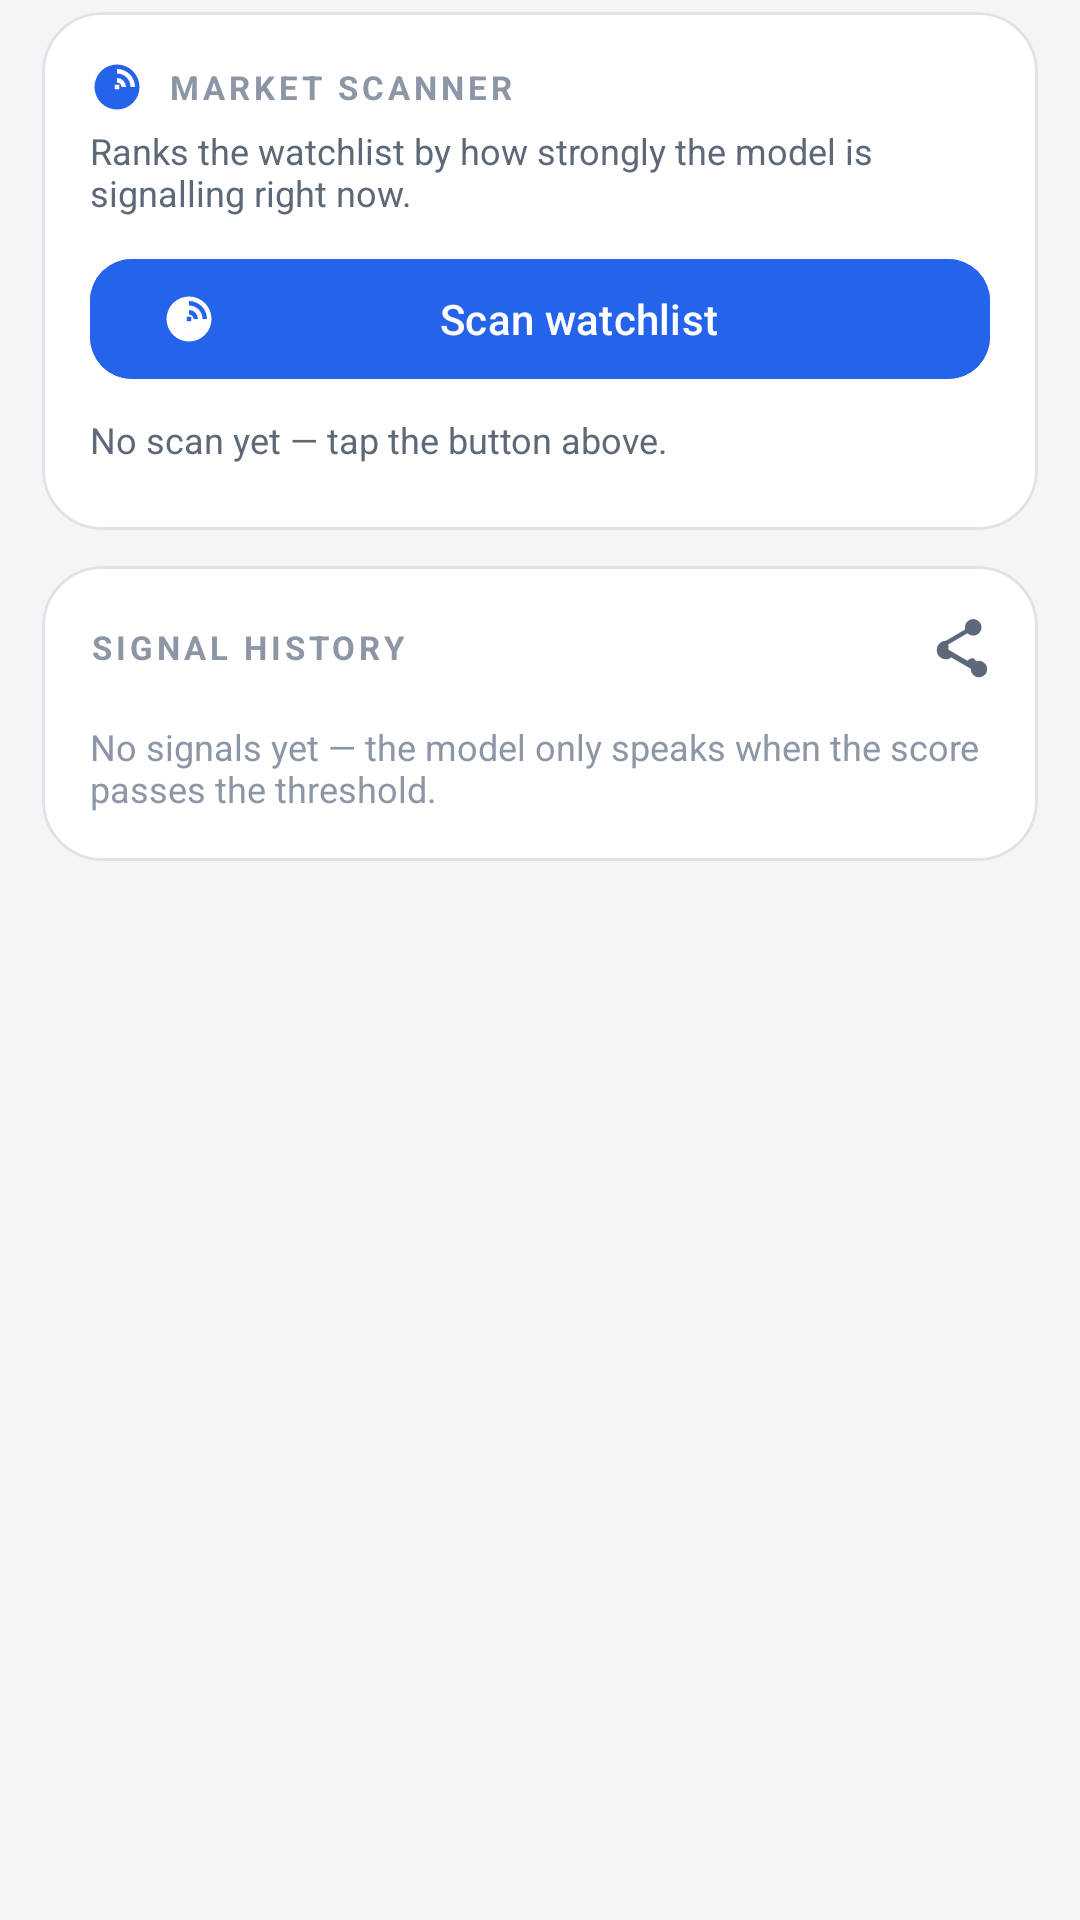

Icons on this 1080px x 1920px Android screen, each with its box as bbox(x1, y1, x2, y2):
Export history (CSV): bbox(936, 619, 987, 678)
